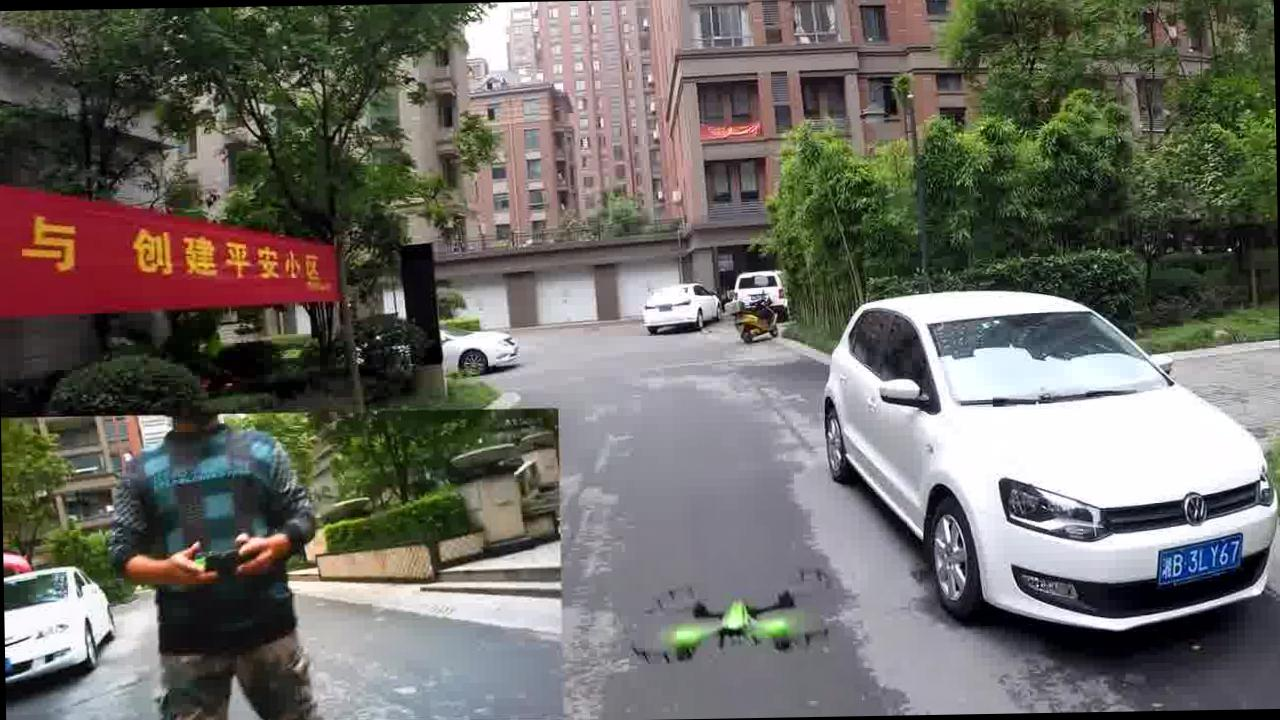drone: (616, 546, 851, 678)
